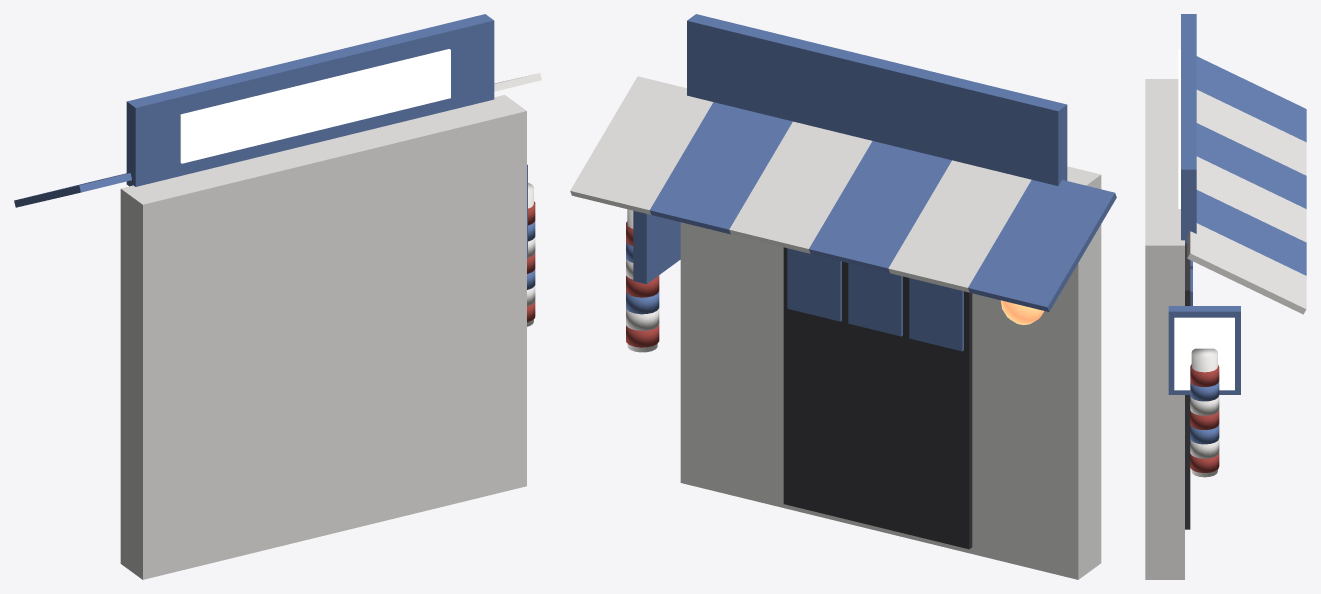
The model's file is prop_mise_toko.glb.
3 renders of one model, left to right at view 1: azimuth 30°, elevation 25°; view 2: azimuth 150°, elevation 25°; view 3: azimuth 270°, elevation 25°, orthographic. The views are drawn at different scales.
Parts seen in each view (by area): view 1: mise_toko; view 2: mise_toko; view 3: mise_toko.
Part boxes in pixels (x1,y1,x2,y2): mise_toko: (14,14,541,579); mise_toko: (570,14,1116,579); mise_toko: (1145,14,1306,579).
Bounding box in the file's own units: 3.61 × 3.39 × 1.22.
